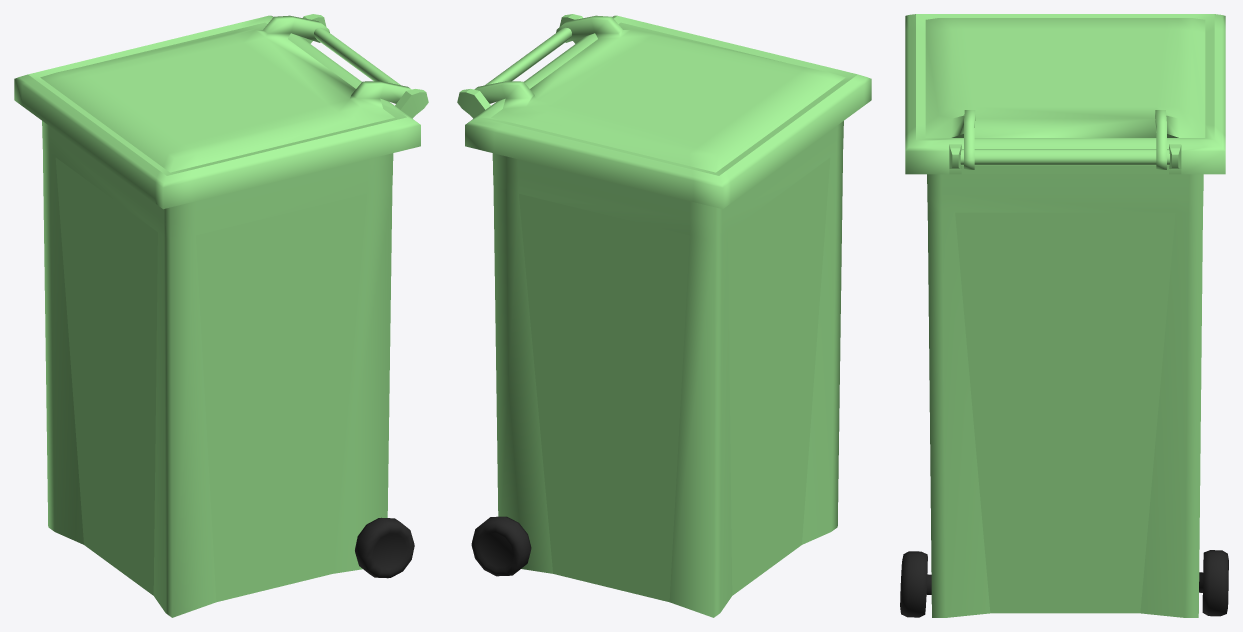
Rendered from 3D_GBCONT_001.FBX.
3 views of the same model, side by side, from view 1: azimuth 30°, elevation 25°; view 2: azimuth 150°, elevation 25°; view 3: azimuth 270°, elevation 25° (orthographic). The views are drawn at different scales.
Visible parts, largest first — view 1: 3D_GBCONT_001; view 2: 3D_GBCONT_001; view 3: 3D_GBCONT_001.
Part boxes in pixels (x1,y1,x2,y2): 3D_GBCONT_001: [14, 14, 428, 617]; 3D_GBCONT_001: [457, 14, 871, 617]; 3D_GBCONT_001: [900, 14, 1228, 617].
Size of the model in its own units: 937 by 1471 by 863.
